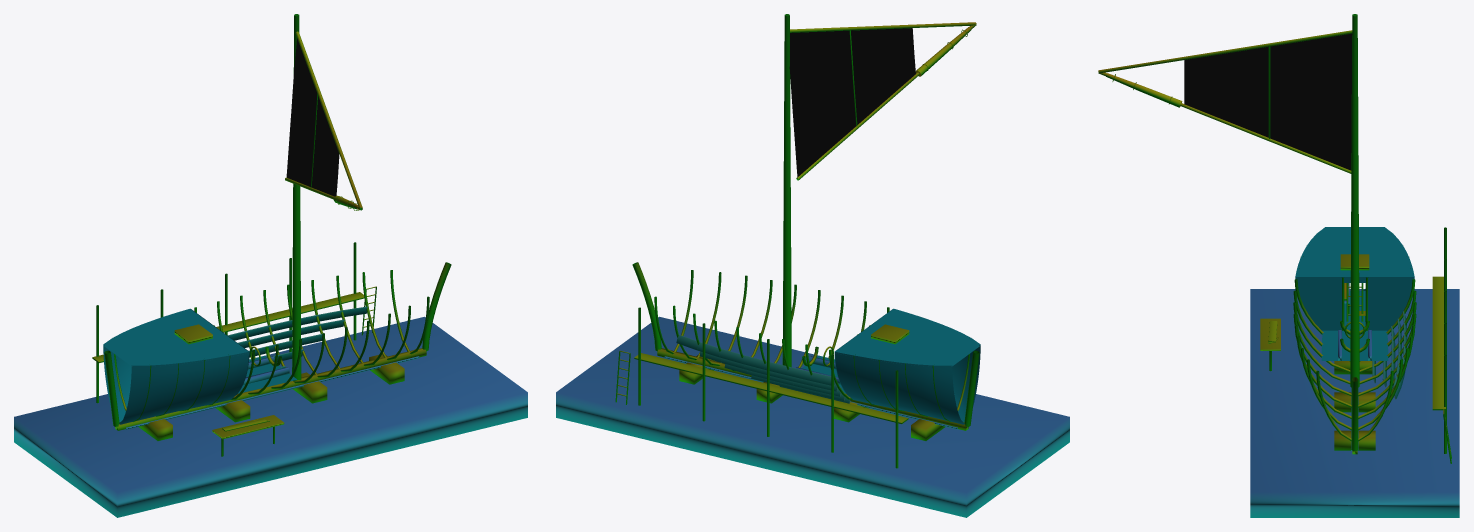
The model's file is dace_hull_frame.glb.
3 renders of one model, left to right at view 1: azimuth 30°, elevation 25°; view 2: azimuth 150°, elevation 25°; view 3: azimuth 270°, elevation 25°, orthographic.
Parts seen in each view (by area): view 1: dace_hull_frame; view 2: dace_hull_frame; view 3: dace_hull_frame.
Boxes of the visible parts, x1,y1,x2,y2 form: dace_hull_frame: [14, 14, 527, 517]; dace_hull_frame: [556, 14, 1069, 517]; dace_hull_frame: [1098, 14, 1459, 517].
Size of what is drawn, in the model's own units: 15.95 by 15.17 by 12.
